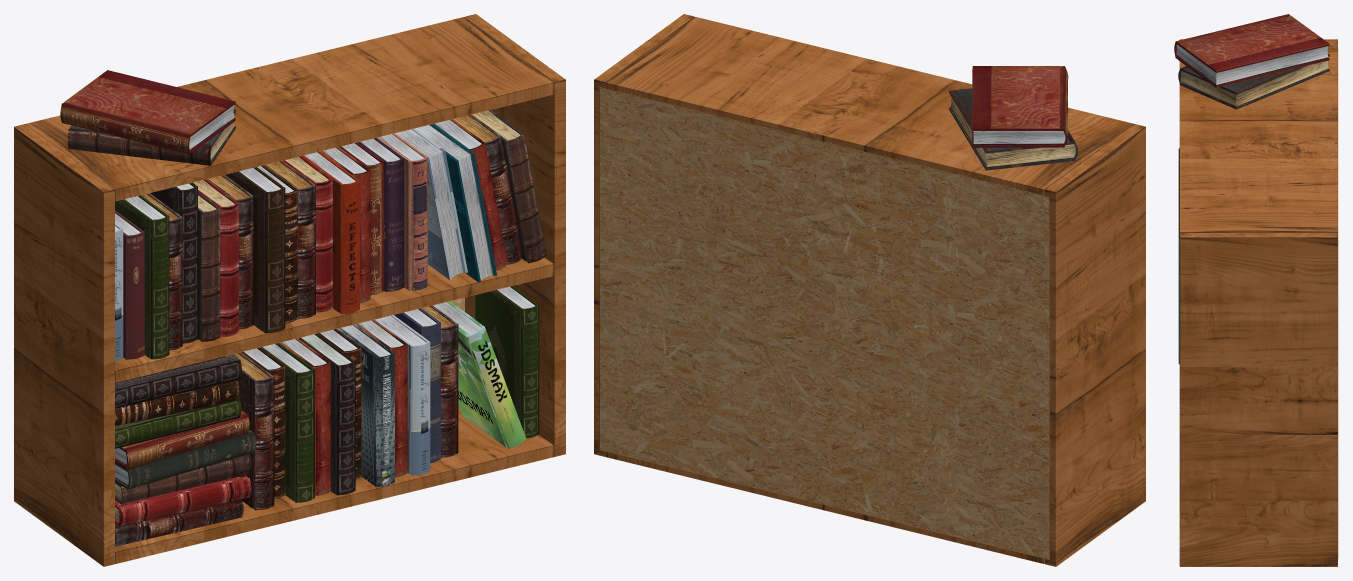
File: Bookshelf01.fbx
3 views of the same model, side by side, from view 1: azimuth 30°, elevation 25°; view 2: azimuth 150°, elevation 25°; view 3: azimuth 270°, elevation 25° (orthographic). The views are drawn at different scales.
Visible parts, largest first — view 1: bookshelf_blender; view 2: bookshelf_blender; view 3: bookshelf_blender.
Boxes of the visible parts, x1,y1,x2,y2 form: bookshelf_blender: [14, 14, 565, 566]; bookshelf_blender: [594, 14, 1145, 566]; bookshelf_blender: [1174, 14, 1338, 566].
Size of the model in its own units: 400 by 342 by 140.
